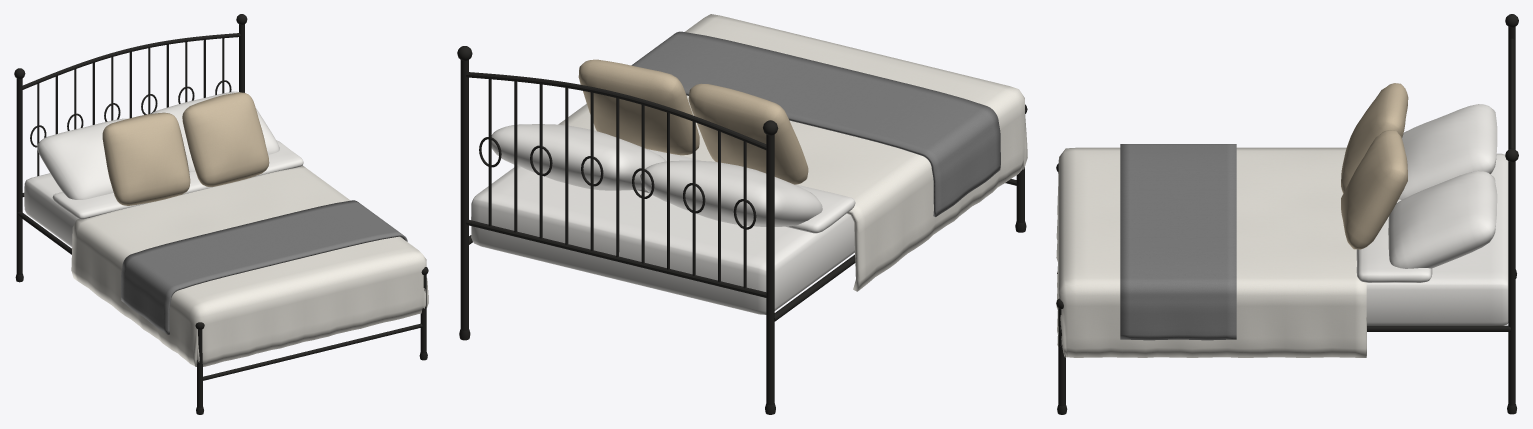
The model's file is cama_forja_135.glb.
3 renders of one model, left to right at view 1: azimuth 30°, elevation 25°; view 2: azimuth 150°, elevation 25°; view 3: azimuth 270°, elevation 25°, orthographic. The views are drawn at different scales.
Parts seen in each view (by area): view 1: cama_forja_135; view 2: cama_forja_135; view 3: cama_forja_135.
Boxes of the visible parts, x1,y1,x2,y2 form: cama_forja_135: (14,14,428,414); cama_forja_135: (457,14,1027,414); cama_forja_135: (1056,14,1518,414).
Bounding box in the file's own units: 1.5 × 1.25 × 1.99.
Materials: 5 (4 with a texture image).
